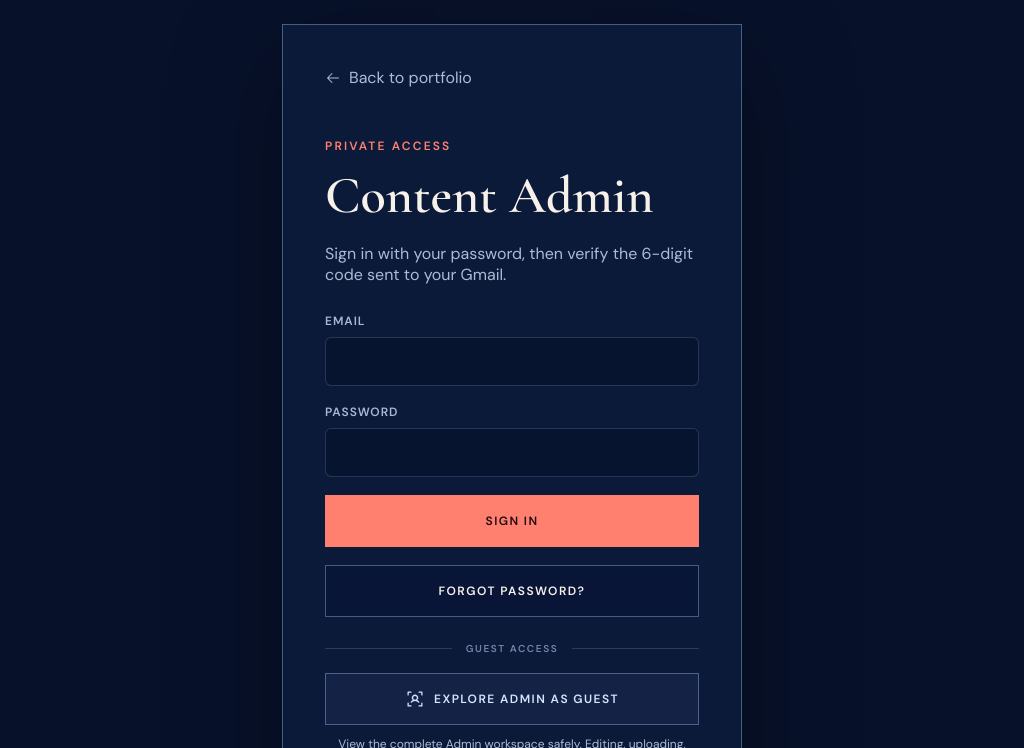
it: Admin authentication and editing › marks Guest Preview controls as unavailable to assistive technology
The width and height of the screenshot is (1024, 748).
Click the button "Explore Admin as Guest" at (512, 699), box [325,673,699,725]
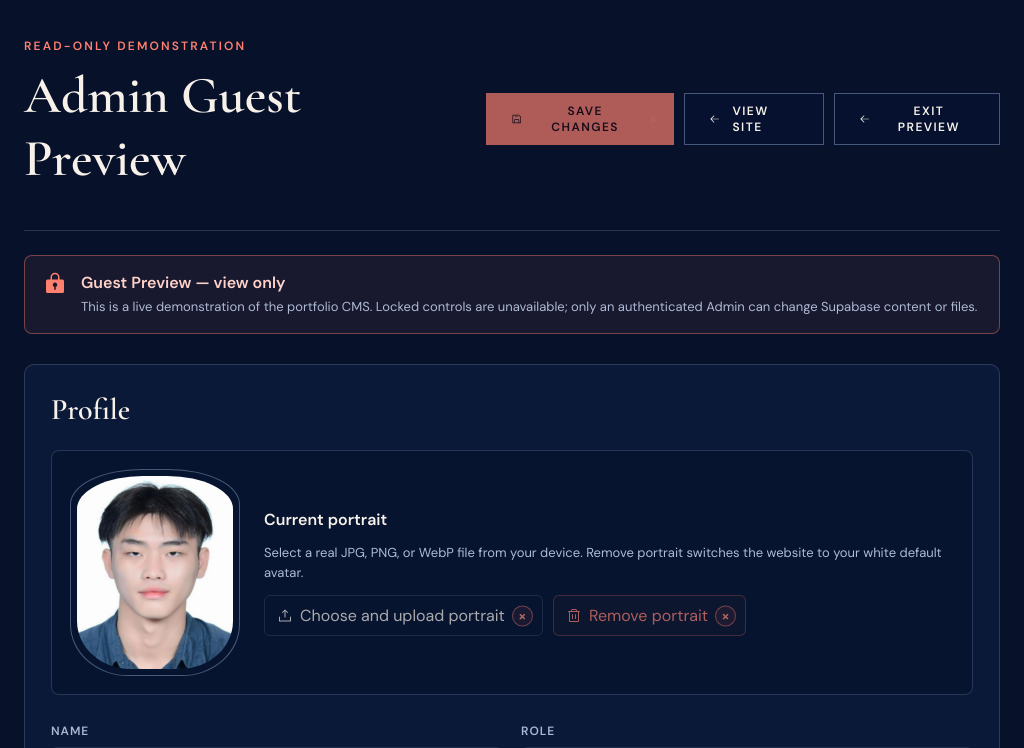
expect the heading "Admin Guest Preview" is shown: met, box [24,64,301,190]
